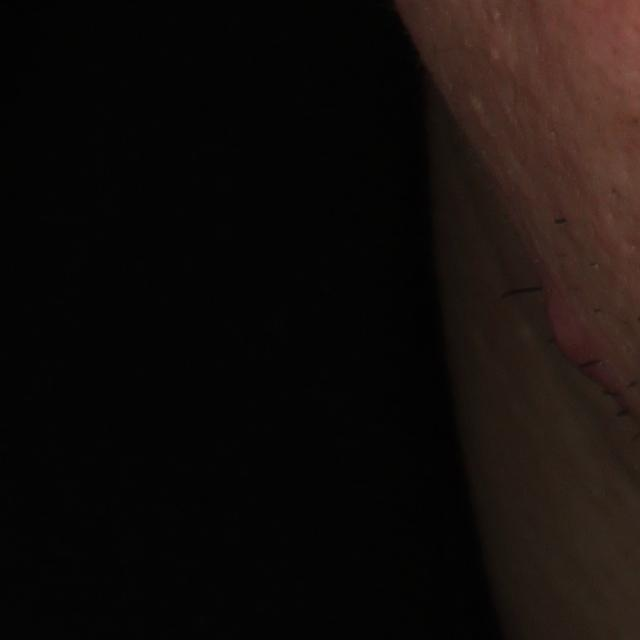papule: (545, 284, 596, 377)
